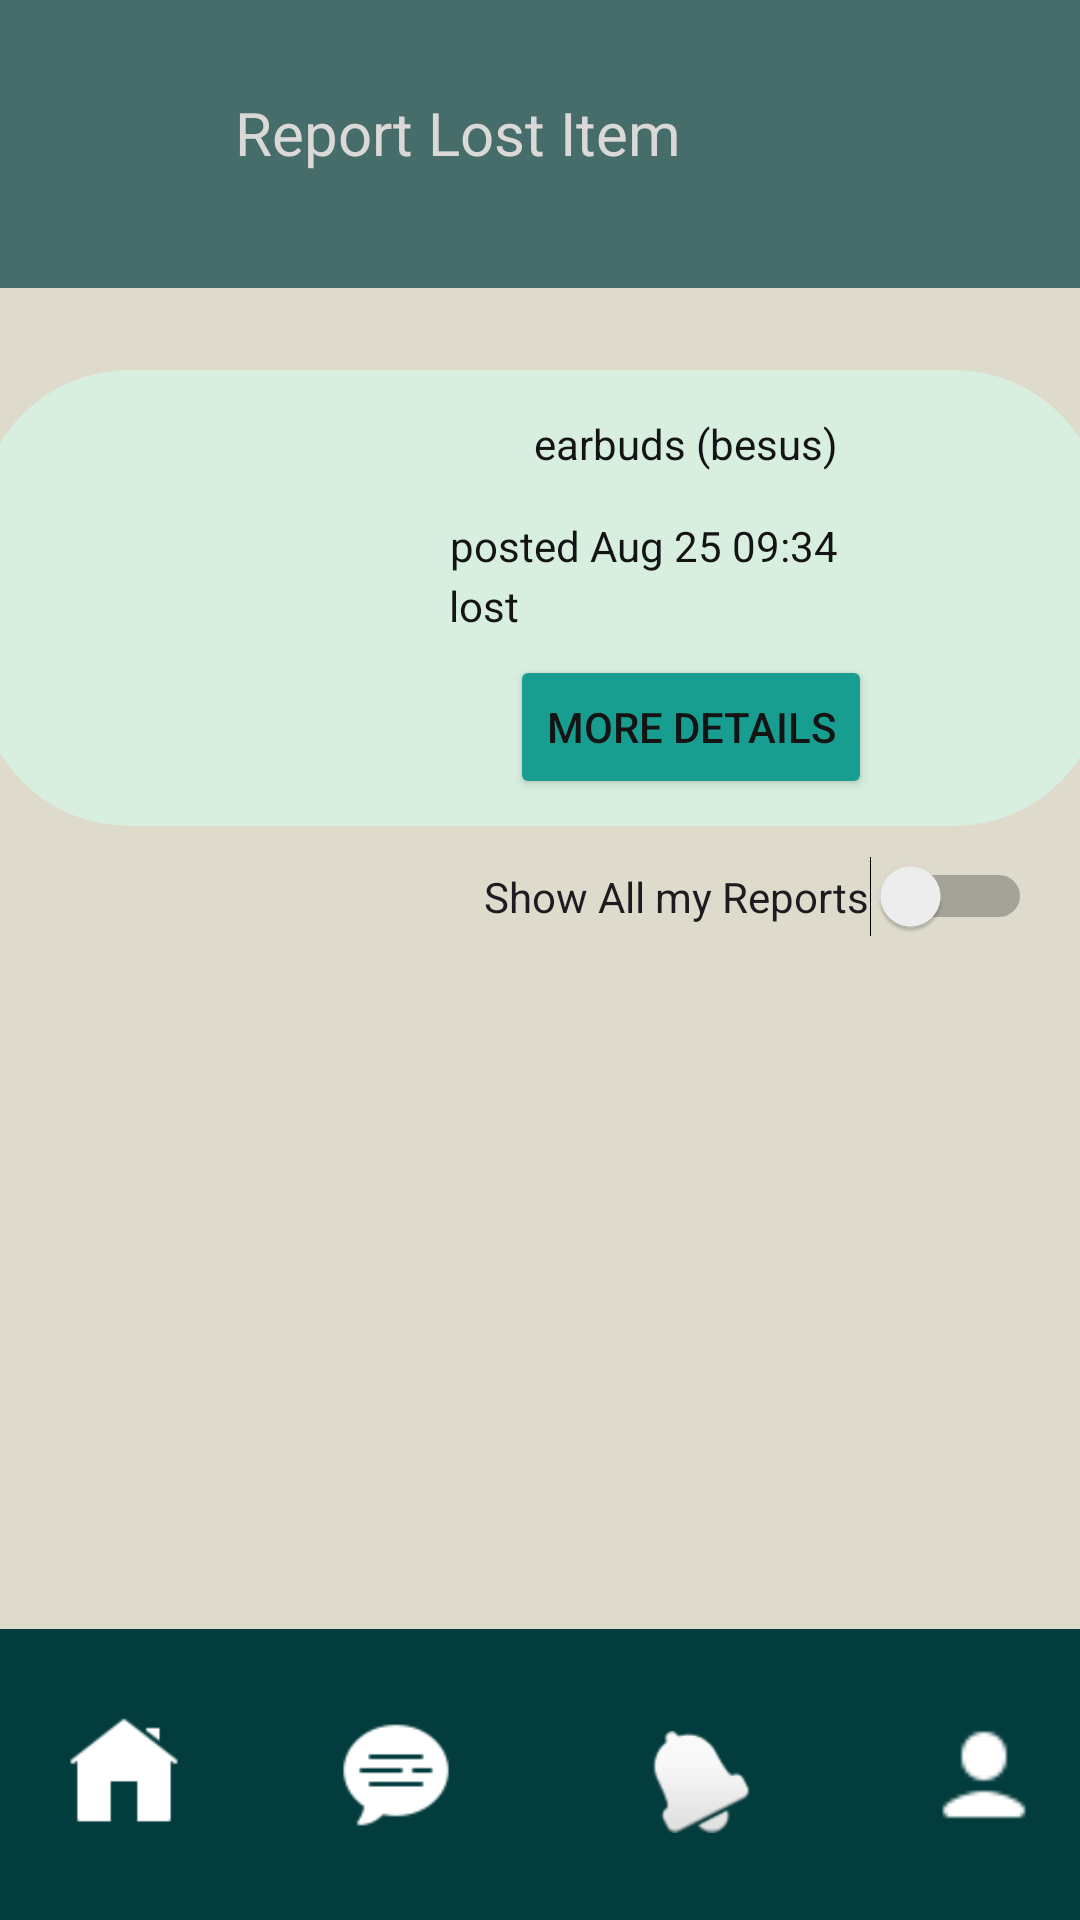

Icon click points for this 1080 × 1920 phone screenshot, format (x=x, y=y):
home: (x=124, y=1770)
message: (x=396, y=1775)
popup reminder: (x=701, y=1782)
profile: (x=984, y=1775)
